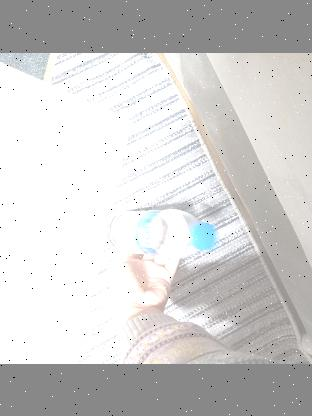Plastic Bottle: (104, 206, 220, 258)
